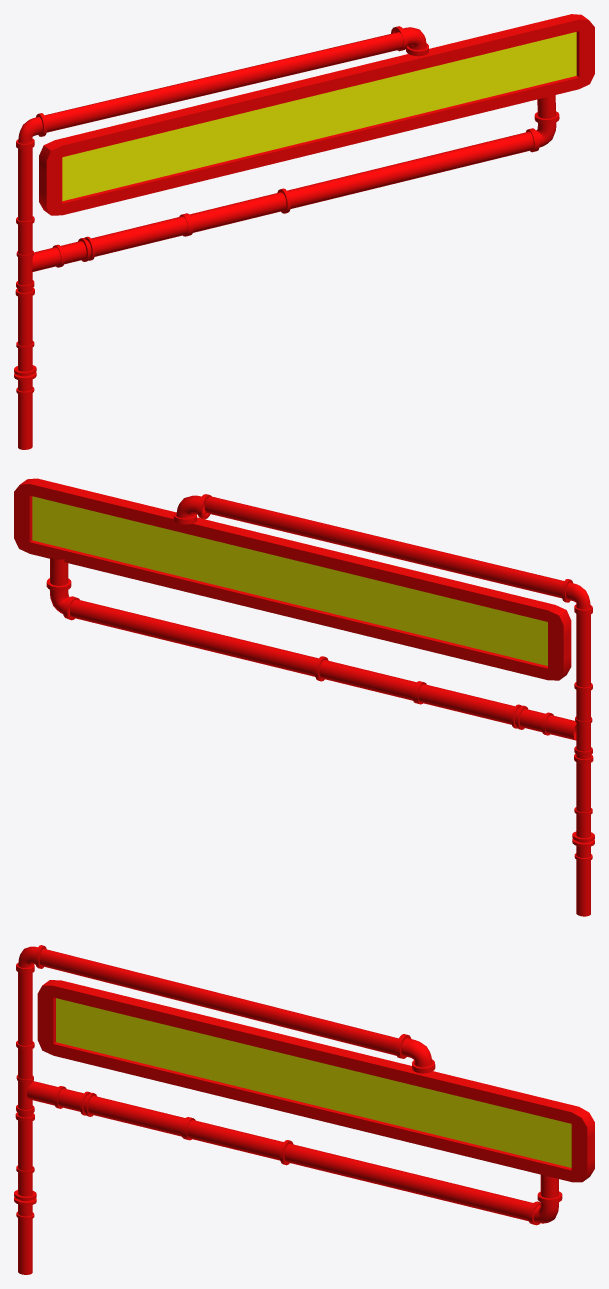
The model's file is 123Billboard.obj.
3 views of the same model, one above another, from view 1: azimuth 30°, elevation 25°; view 2: azimuth 150°, elevation 25°; view 3: azimuth 330°, elevation 25° (orthographic).
Visible parts, largest first — view 1: RedGroup BILLBOARDFOREIMPORTY:Sign, RedGroup BillBoard1, RedGroup BillBoard5, BillBoardConnector2 RedGroup, RedGroup BillBoardConnector5; view 2: RedGroup BILLBOARDFOREIMPORTY:Sign, RedGroup BillBoard1, RedGroup BillBoard5, BillBoardConnector2 RedGroup, RedGroup BillBoardConnector5; view 3: RedGroup BILLBOARDFOREIMPORTY:Sign, RedGroup BillBoard1, RedGroup BillBoard5, BillBoardConnector2 RedGroup, RedGroup BillBoardConnector5.
Boxes of the visible parts, <box> form: RedGroup BILLBOARDFOREIMPORTY:Sign: <box>39,14,594,215</box>; RedGroup BillBoard1: <box>14,32,403,449</box>; RedGroup BillBoard5: <box>32,131,533,271</box>; BillBoardConnector2 RedGroup: <box>526,95,559,152</box>; RedGroup BillBoardConnector5: <box>391,26,428,56</box>; RedGroup BILLBOARDFOREIMPORTY:Sign: <box>14,478,571,680</box>; RedGroup BillBoard1: <box>205,496,594,916</box>; RedGroup BillBoard5: <box>69,599,576,740</box>; BillBoardConnector2 RedGroup: <box>46,556,79,620</box>; RedGroup BillBoardConnector5: <box>173,494,211,524</box>; RedGroup BILLBOARDFOREIMPORTY:Sign: <box>37,980,594,1182</box>; RedGroup BillBoard1: <box>14,945,398,1274</box>; RedGroup BillBoard5: <box>27,1081,532,1221</box>; BillBoardConnector2 RedGroup: <box>527,1174,562,1225</box>; RedGroup BillBoardConnector5: <box>395,1034,435,1073</box>.
Bounding box in the file's own units: 23.34 × 12.76 × 0.9757.
